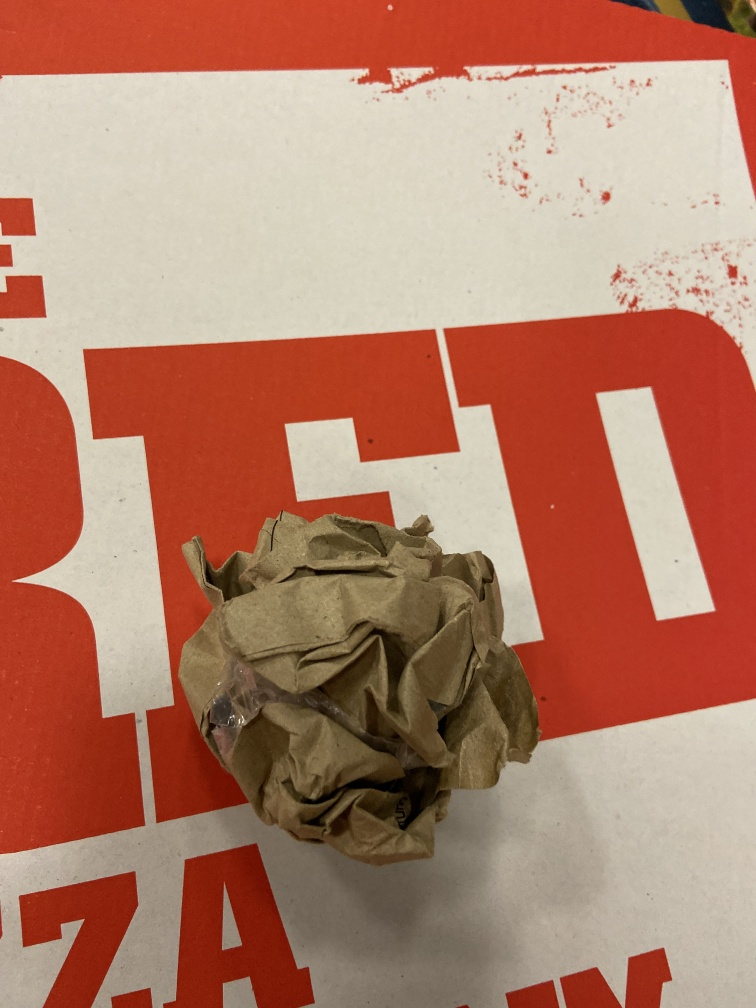paper_brown: (177, 503, 545, 870)
